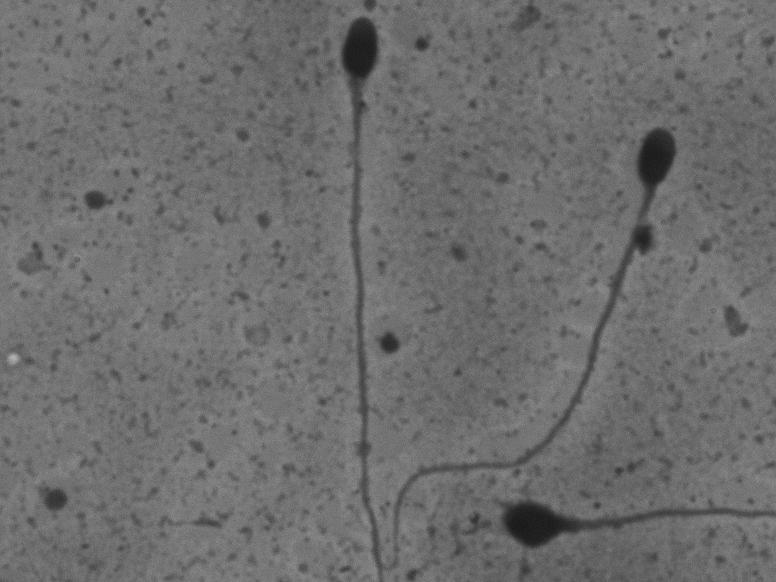Abnormal: (489, 486, 769, 564)
Normal: (380, 111, 691, 578), (316, 9, 387, 567)
